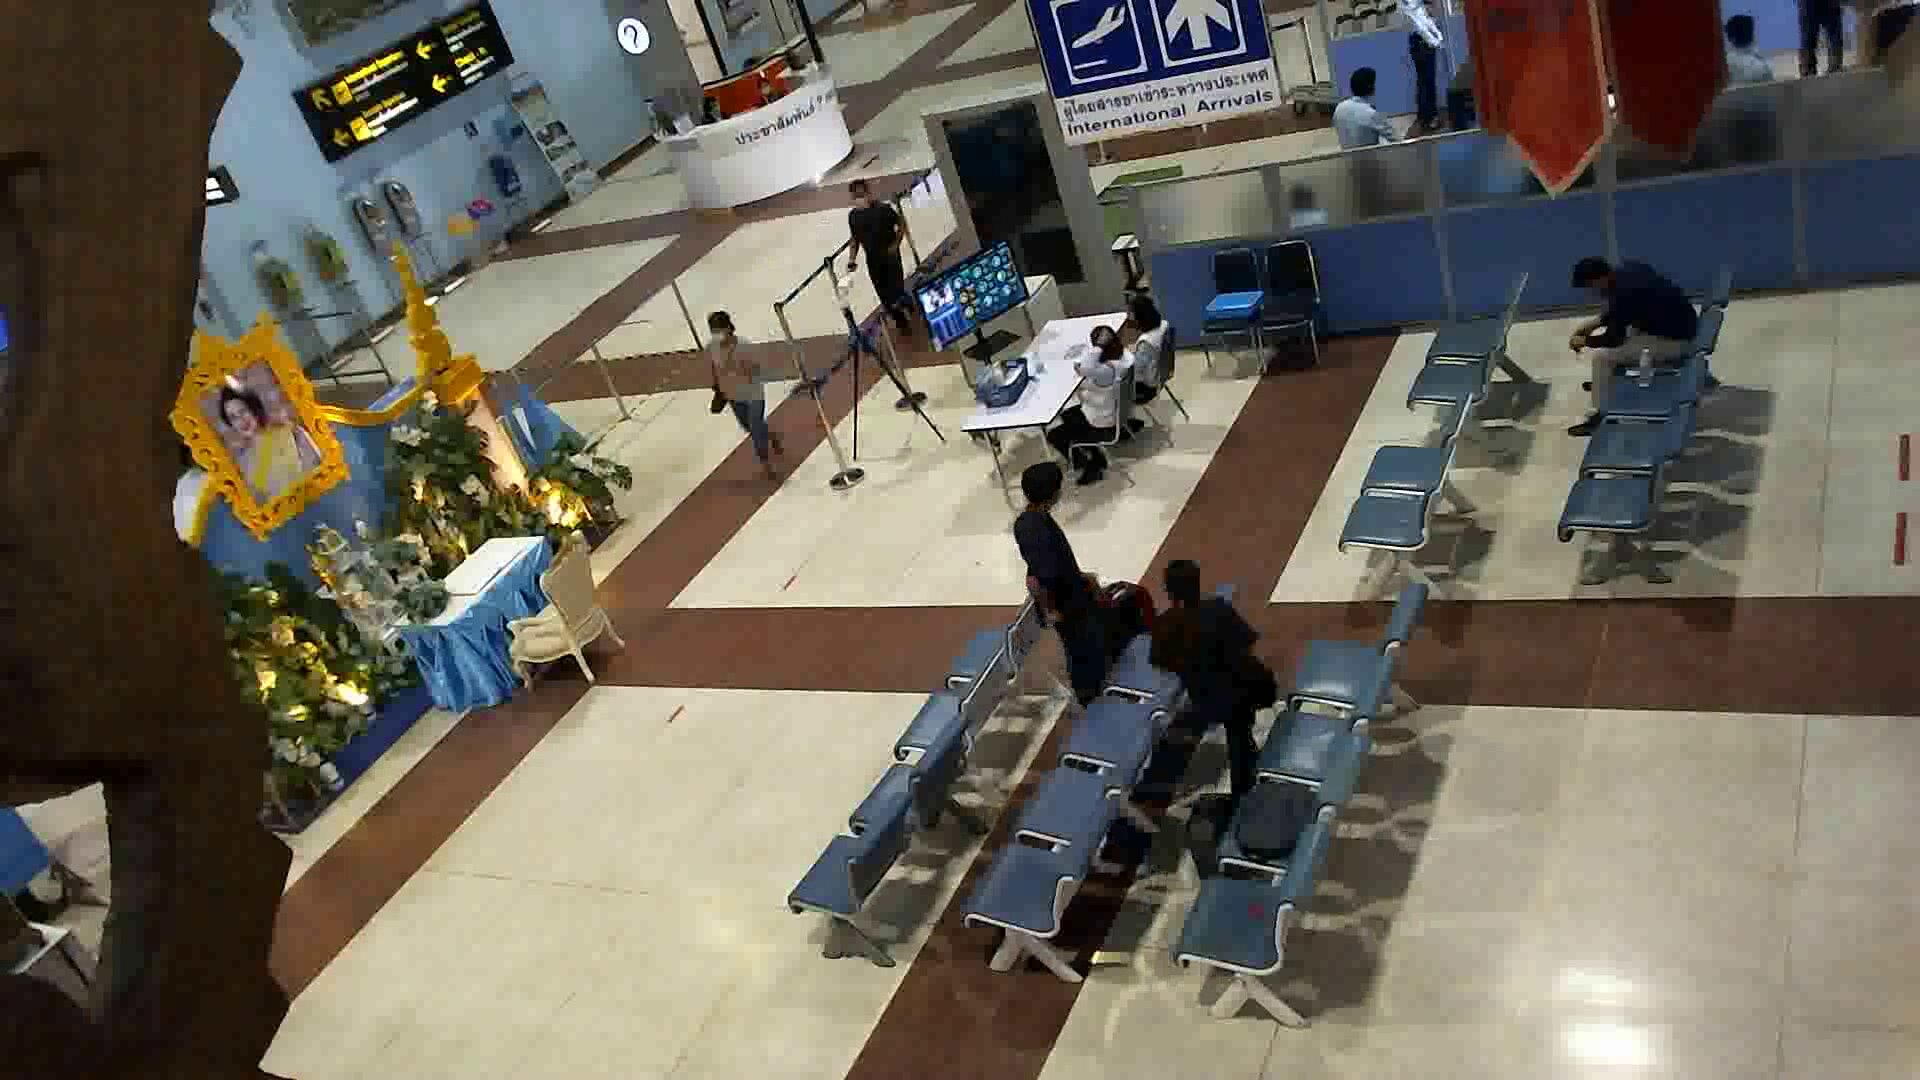backpack: (1226, 772, 1326, 865)
luggage: (1089, 576, 1160, 668), (1181, 786, 1235, 899)
people: (1560, 226, 1701, 440), (1149, 547, 1268, 786), (1018, 453, 1112, 711), (689, 305, 787, 480), (833, 166, 918, 330), (1043, 328, 1131, 472), (1122, 291, 1179, 413)
